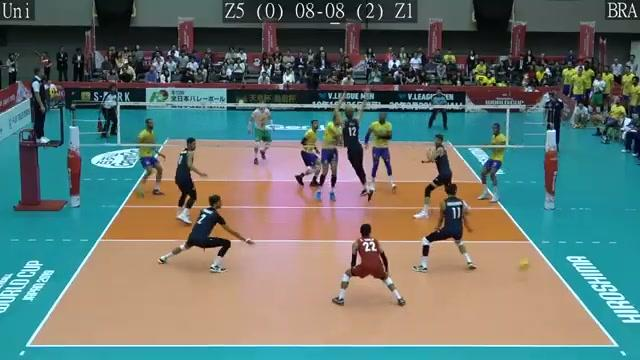ball: (514, 257, 531, 275)
